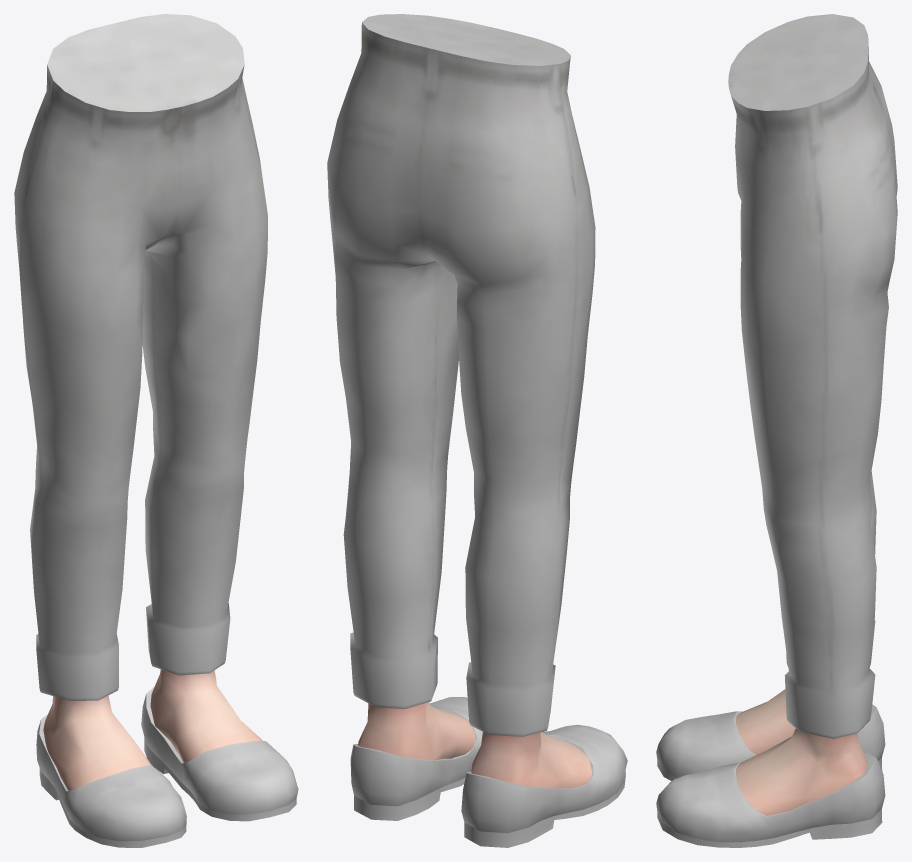
Rendered from tr0850_00_lwb00.gltf.
The picture shows the model from 3 angles, left to right: view 1: azimuth 30°, elevation 25°; view 2: azimuth 150°, elevation 25°; view 3: azimuth 270°, elevation 25°; orthographic projection. The views are drawn at different scales.
Visible parts, largest first — view 1: lwb00_lowerbody_mesh_shape:lowerbody00, lwb00_shoes_mesh_shape:lowerbody00, lwb00_lowerskin_mesh_shape:lowerbody00_skin; view 2: lwb00_lowerbody_mesh_shape:lowerbody00, lwb00_shoes_mesh_shape:lowerbody00, lwb00_lowerskin_mesh_shape:lowerbody00_skin; view 3: lwb00_lowerbody_mesh_shape:lowerbody00, lwb00_shoes_mesh_shape:lowerbody00, lwb00_lowerskin_mesh_shape:lowerbody00_skin.
Part boxes in pixels (x1,y1,x2,y2): lwb00_lowerbody_mesh_shape:lowerbody00: (14,14,267,700); lwb00_shoes_mesh_shape:lowerbody00: (36,687,298,847); lwb00_lowerskin_mesh_shape:lowerbody00_skin: (43,669,262,790); lwb00_lowerbody_mesh_shape:lowerbody00: (327,14,595,736); lwb00_shoes_mesh_shape:lowerbody00: (350,697,627,847); lwb00_lowerskin_mesh_shape:lowerbody00_skin: (358,702,592,788); lwb00_lowerbody_mesh_shape:lowerbody00: (728,14,897,738); lwb00_shoes_mesh_shape:lowerbody00: (656,704,885,847); lwb00_lowerskin_mesh_shape:lowerbody00_skin: (736,689,867,815).
Size of what is drawn, in the model's own units: 0.3367 by 1.03 by 0.3004.
Materials: 2 (2 with a texture image).
